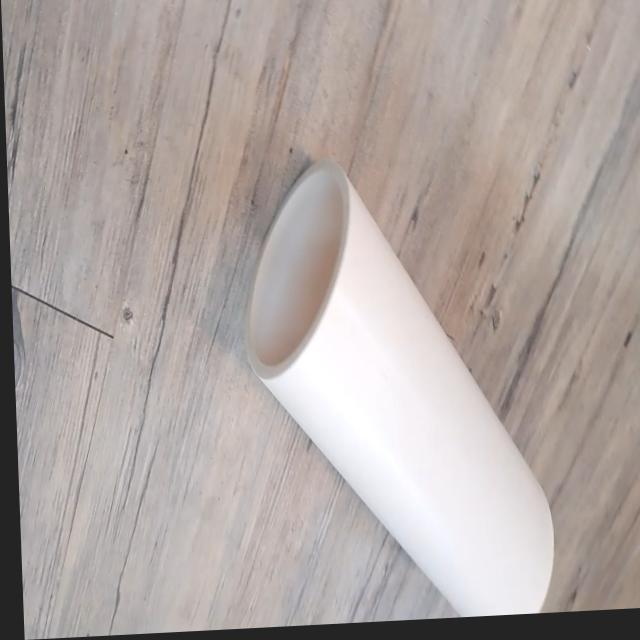CORAL: (240, 147, 564, 628)
